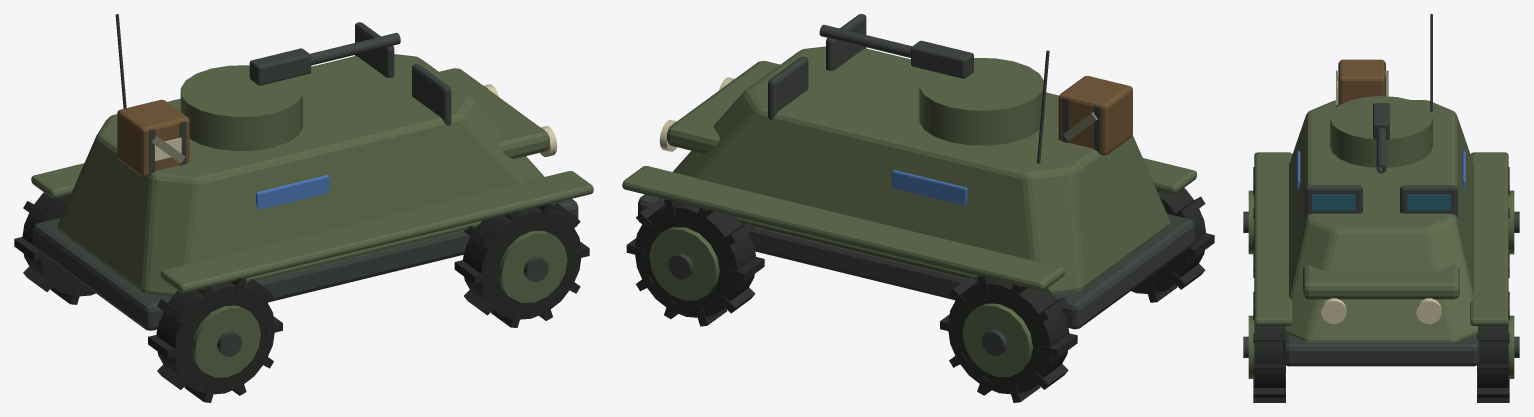
File: scoutcar.glb
3 views of the same model, side by side, from view 1: azimuth 30°, elevation 25°; view 2: azimuth 150°, elevation 25°; view 3: azimuth 270°, elevation 25° (orthographic). The views are drawn at different scales.
Parts seen in each view (by area): view 1: Armor, Tracks, Steel, Timber, TeamColor, Markings; view 2: Armor, Tracks, Steel, Timber, TeamColor; view 3: Armor, Steel, Tracks, Timber, Optics, Markings, TeamColor.
Boxes of the visible parts, x1,y1,x2,y2 form: Armor: [31, 54, 593, 377]; Tracks: [14, 192, 589, 402]; Steel: [33, 14, 578, 356]; Timber: [117, 99, 189, 177]; TeamColor: [256, 175, 329, 209]; Markings: [154, 84, 557, 160]; Armor: [622, 46, 1196, 377]; Tracks: [626, 188, 1214, 402]; Steel: [638, 14, 1194, 355]; Timber: [1058, 76, 1132, 155]; TeamColor: [892, 170, 967, 205]; Armor: [1248, 96, 1514, 378]; Steel: [1243, 14, 1519, 366]; Tracks: [1253, 167, 1509, 402]; Timber: [1339, 59, 1385, 105]; Optics: [1312, 194, 1450, 210]; Markings: [1321, 81, 1441, 323]; TeamColor: [1297, 151, 1465, 193].
Size of the model in its own units: 3.25 by 2.2 by 2.15.
